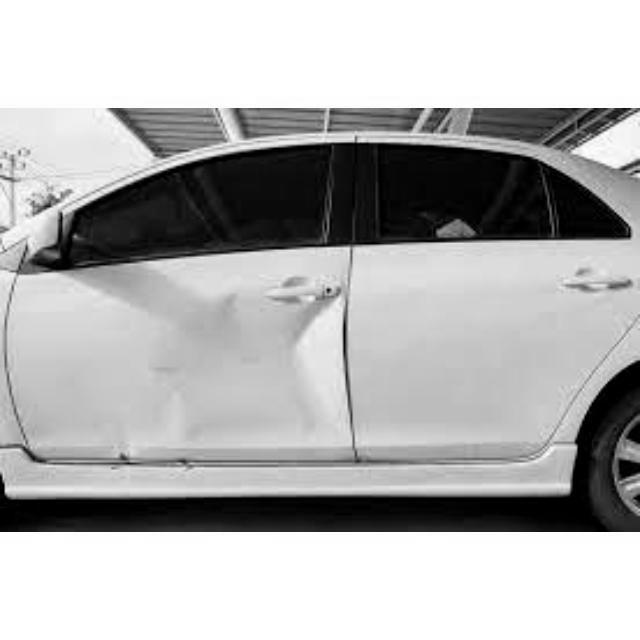doorouter-dent: (10, 236, 283, 495), (202, 229, 413, 495)
